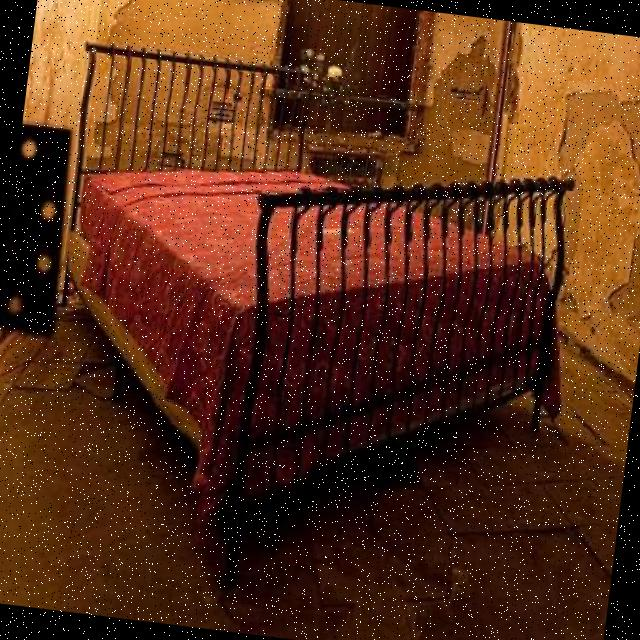Bed: (7, 22, 620, 618)
